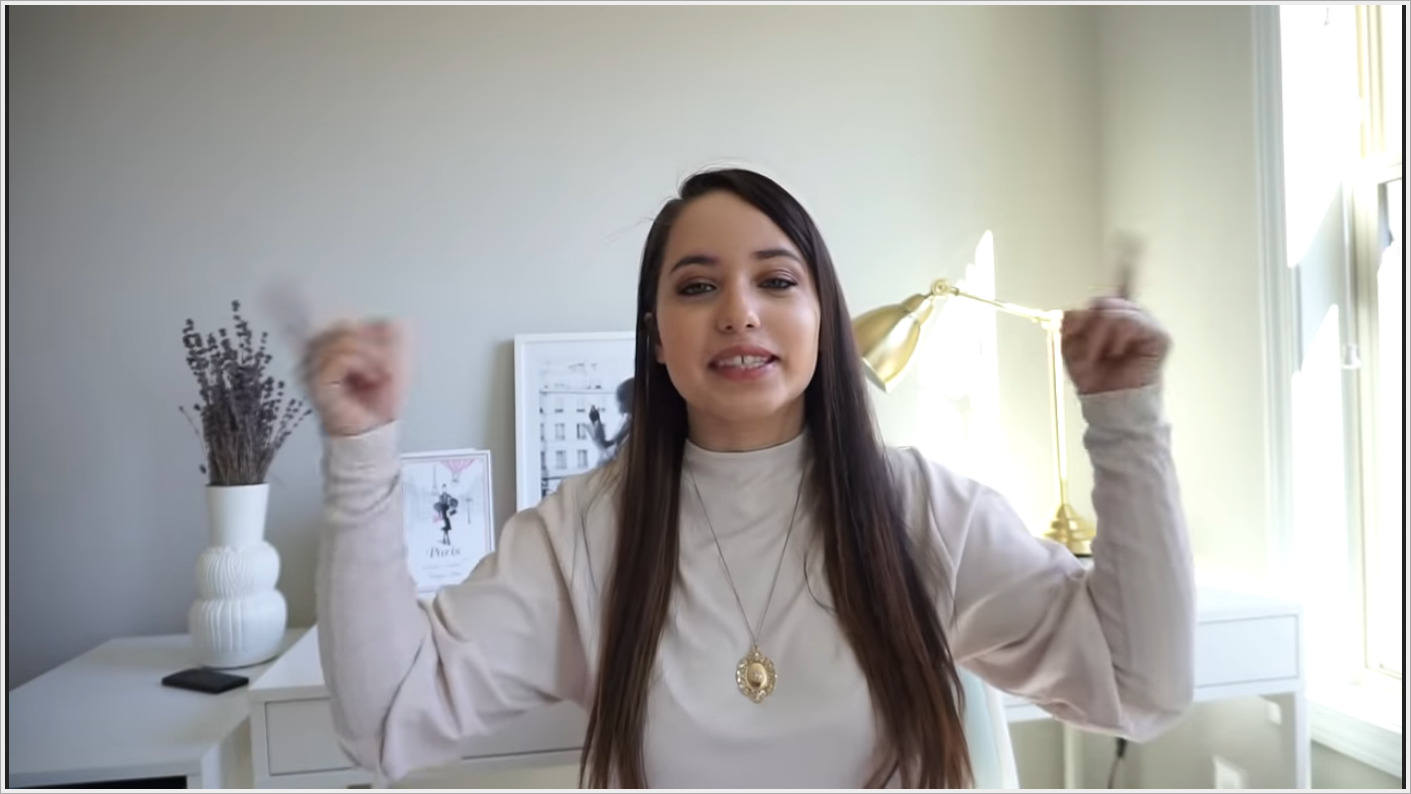hand: (246, 263, 420, 433), (1051, 228, 1183, 393)
